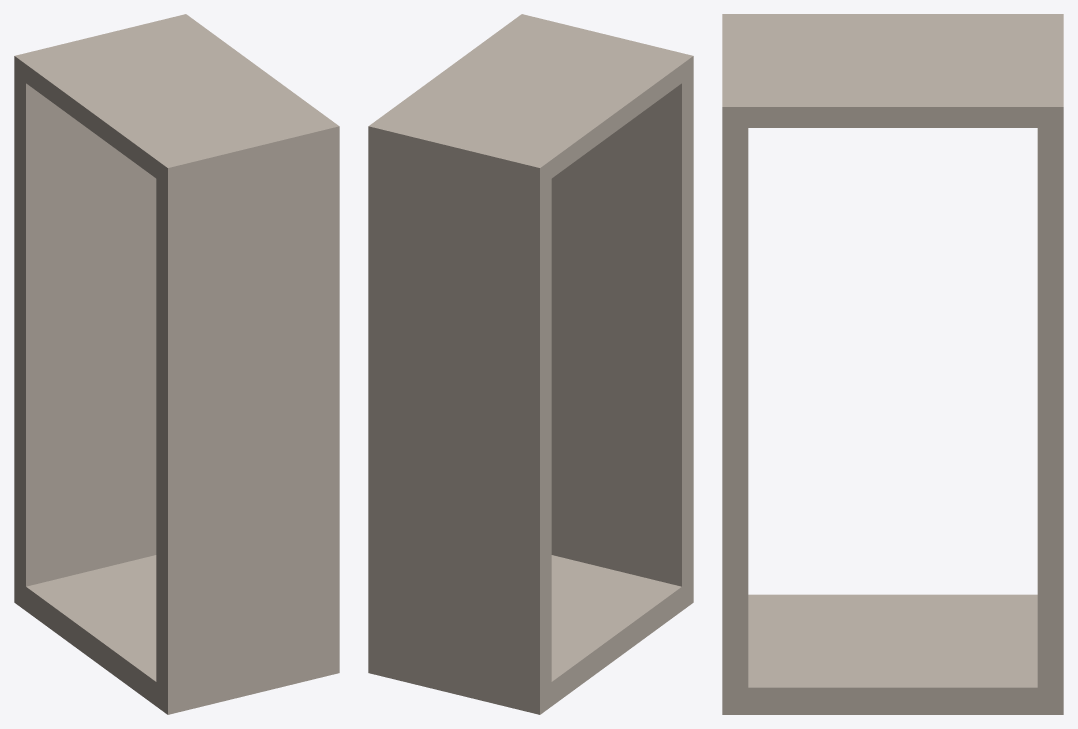
Rendered from boxShelf.fbx.
3 views of the same model, side by side, from view 1: azimuth 30°, elevation 25°; view 2: azimuth 150°, elevation 25°; view 3: azimuth 270°, elevation 25° (orthographic). The views are drawn at different scales.
Visible parts, largest first — view 1: pCube3; view 2: pCube3; view 3: pCube3.
Part boxes in pixels (box(x1,y1,x2,y2)): pCube3: box(14, 14, 339, 714); pCube3: box(368, 14, 693, 714); pCube3: box(722, 14, 1063, 714).
Size of the model in its own units: 1.17 by 3.57 by 1.82.
